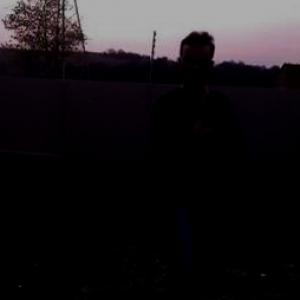follow_hand: (183, 100, 216, 140)
